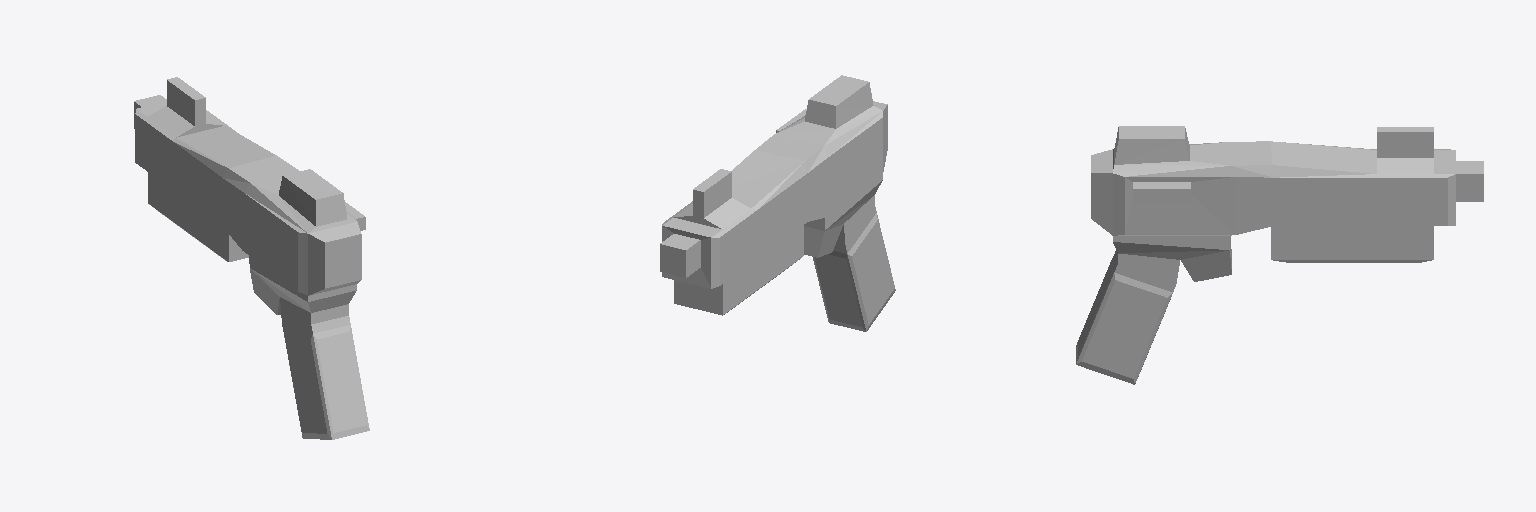
Rendered from pistol.obj.
3 renders of one model, left to right at view 1: azimuth 30°, elevation 25°; view 2: azimuth 150°, elevation 25°; view 3: azimuth 270°, elevation 25°, orthographic.
Parts seen in each view (by area): view 1: Cube; view 2: Cube; view 3: Cube.
Boxes of the visible parts, x1=… form: Cube: x1=134, y1=77, x2=369, y2=439; Cube: x1=660, y1=75, x2=895, y2=331; Cube: x1=1076, y1=126, x2=1483, y2=384.
Bounding box in the file's own units: 0.0865 × 0.2806 × 0.4213.